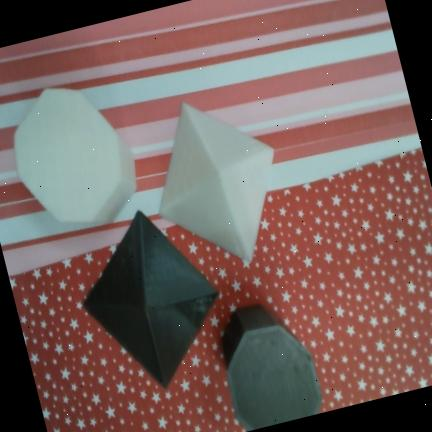Piramide: (82, 208, 219, 389), (160, 101, 273, 262)
Prisma_hexagonal: (13, 88, 136, 223), (220, 303, 323, 430)
